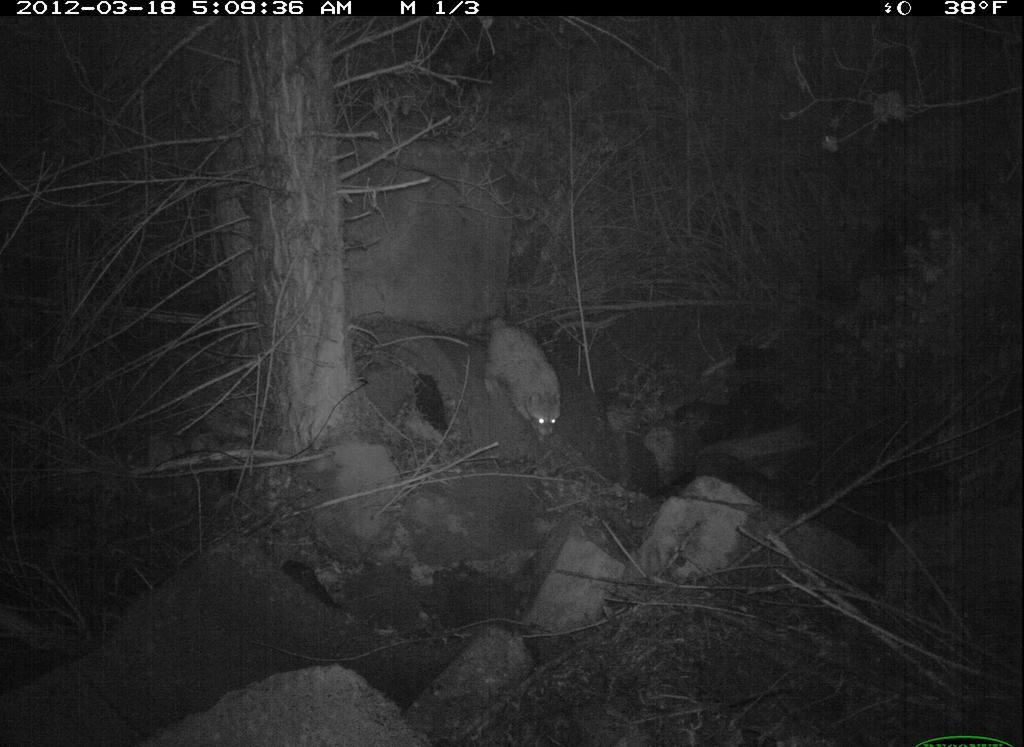raccoon: (463, 310, 570, 449)
